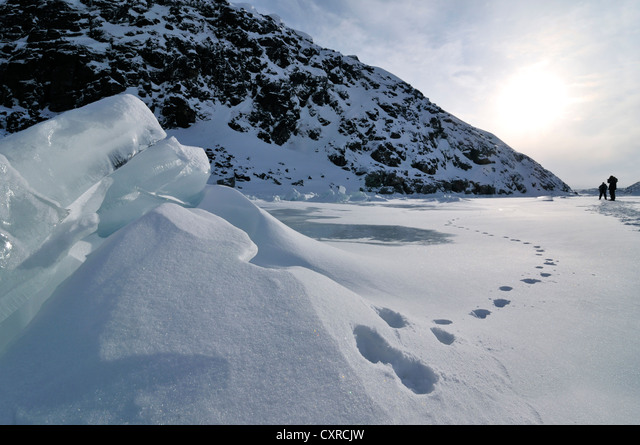fox: (375, 306, 414, 328), (428, 327, 462, 349), (471, 307, 491, 322), (431, 316, 455, 326), (494, 297, 512, 309)
